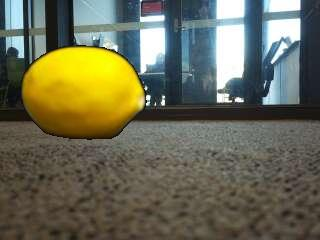lemon: (25, 48, 147, 140)
